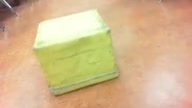cube: (32, 9, 119, 95)
